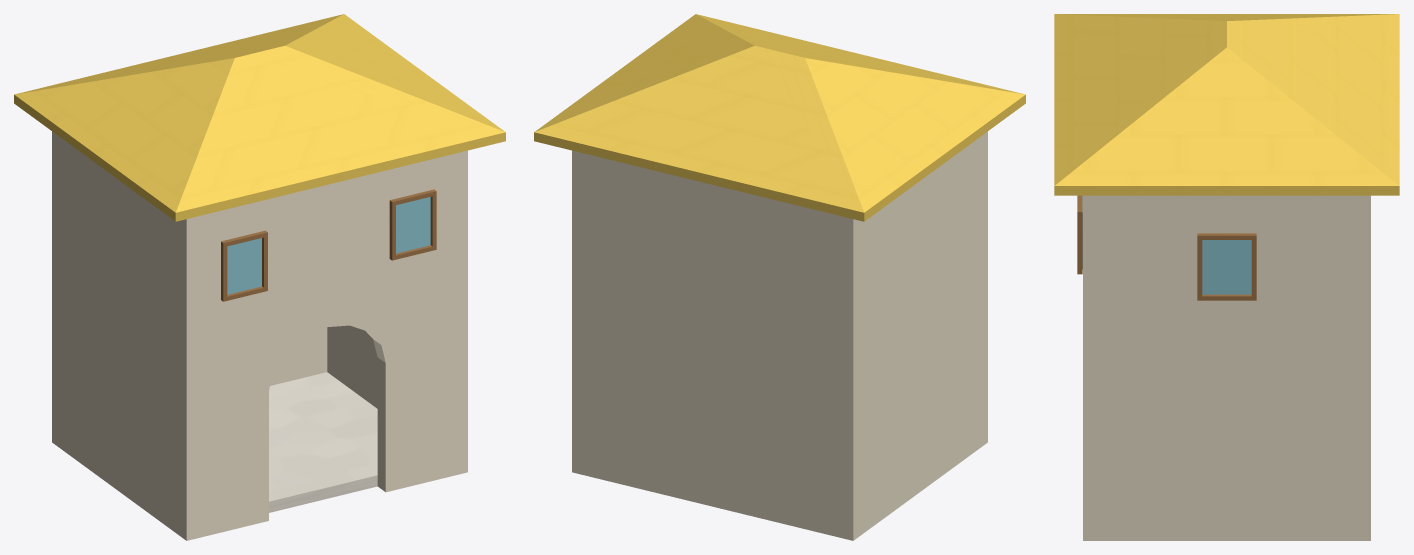
The model's file is town_house_cream.glb.
The picture shows the model from 3 angles, left to right: view 1: azimuth 30°, elevation 25°; view 2: azimuth 150°, elevation 25°; view 3: azimuth 270°, elevation 25°; orthographic projection. The views are drawn at different scales.
Visible parts, largest first — view 1: beach_town_house_cream; view 2: beach_town_house_cream; view 3: beach_town_house_cream.
Part boxes in pixels (bbox=[...]): beach_town_house_cream: bbox=[14, 14, 505, 540]; beach_town_house_cream: bbox=[534, 14, 1025, 540]; beach_town_house_cream: bbox=[1054, 14, 1399, 540].
Bounding box in the file's own units: 4.6 × 5.4 × 3.9.
Materials: 1 (1 with a texture image).
